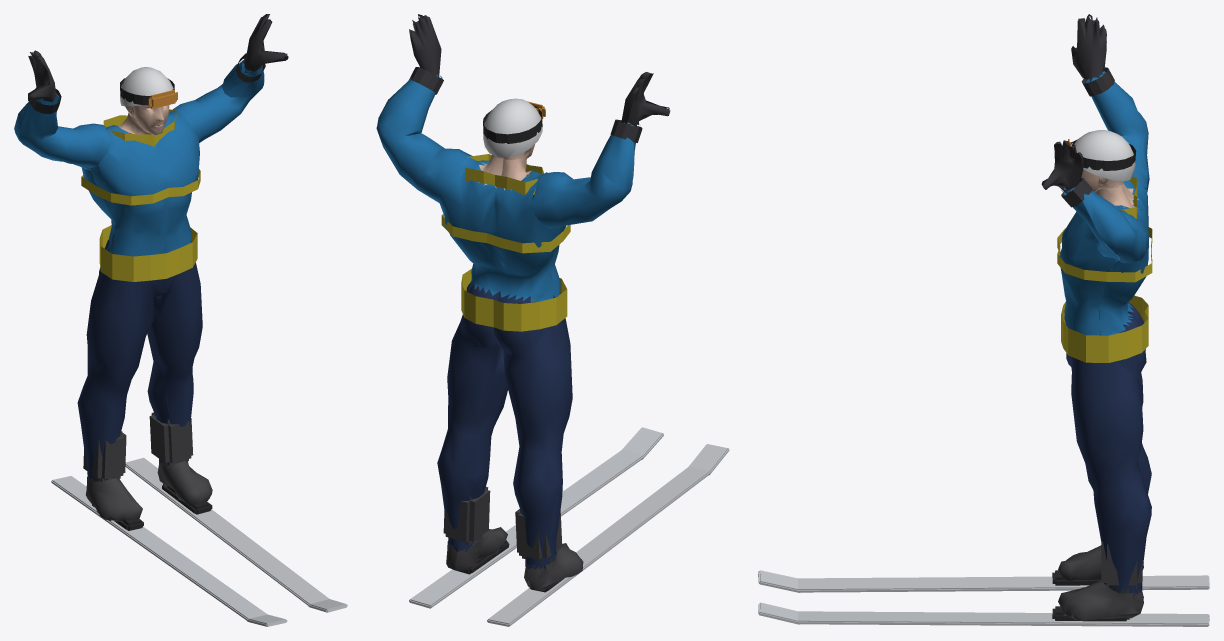
File: skier-standing.glb
3 views of the same model, side by side, from view 1: azimuth 30°, elevation 25°; view 2: azimuth 150°, elevation 25°; view 3: azimuth 270°, elevation 25° (orthographic). The views are drawn at different scales.
Visible parts, largest first — view 1: skier-standing; view 2: skier-standing; view 3: skier-standing.
Part boxes in pixels (x1,y1,x2,y2): skier-standing: [14, 14, 347, 626]; skier-standing: [376, 14, 729, 626]; skier-standing: [758, 14, 1209, 626].
Bounding box in the file's own units: 1.12 × 2.09 × 1.62.
